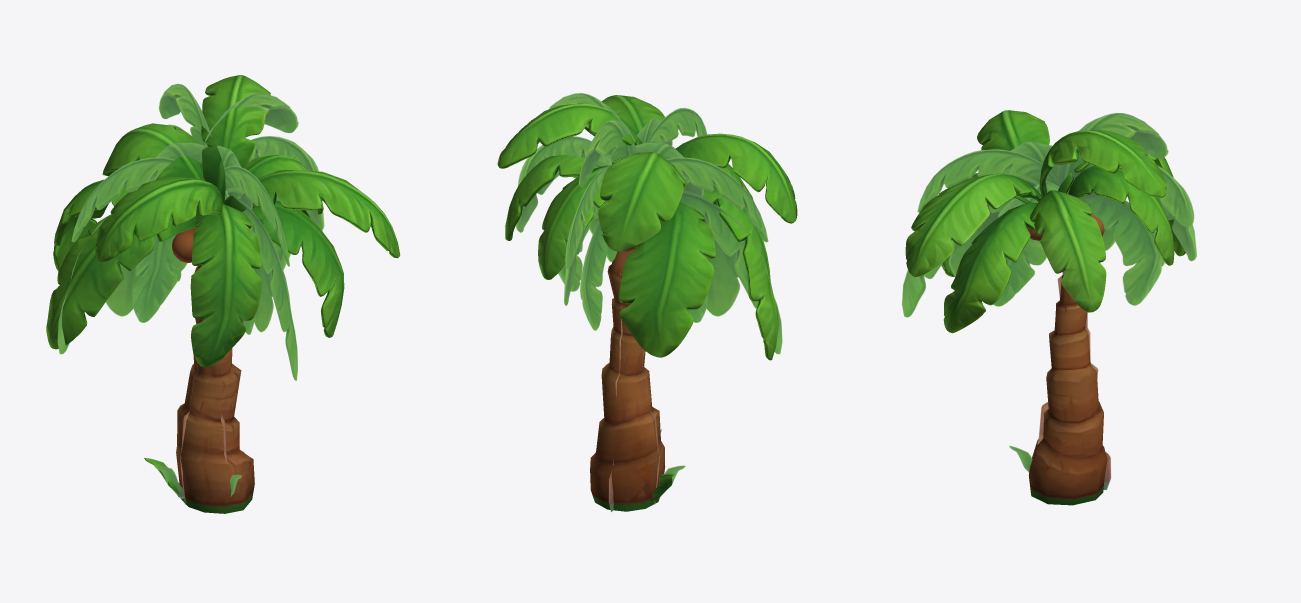
Rendered from tree.glb.
3 renders of one model, left to right at view 1: azimuth 30°, elevation 25°; view 2: azimuth 150°, elevation 25°; view 3: azimuth 270°, elevation 25°, orthographic. The views are drawn at different scales.
Visible parts, largest first — view 1: TREE_LOD0, TREE_IMPOSTOR; view 2: TREE_LOD0, TREE_IMPOSTOR; view 3: TREE_LOD0, TREE_IMPOSTOR.
Part boxes in pixels (box(x1,y1,x2,y2)): TREE_LOD0: box(46, 75, 400, 513); TREE_IMPOSTOR: box(57, 83, 324, 504); TREE_LOD0: box(497, 95, 797, 511); TREE_IMPOSTOR: box(515, 93, 782, 511); TREE_LOD0: box(905, 110, 1185, 505); TREE_IMPOSTOR: box(902, 113, 1196, 489).
Size of the model in its own units: 1.04 by 1.04 by 1.04.
2 materials, 2 textured.
